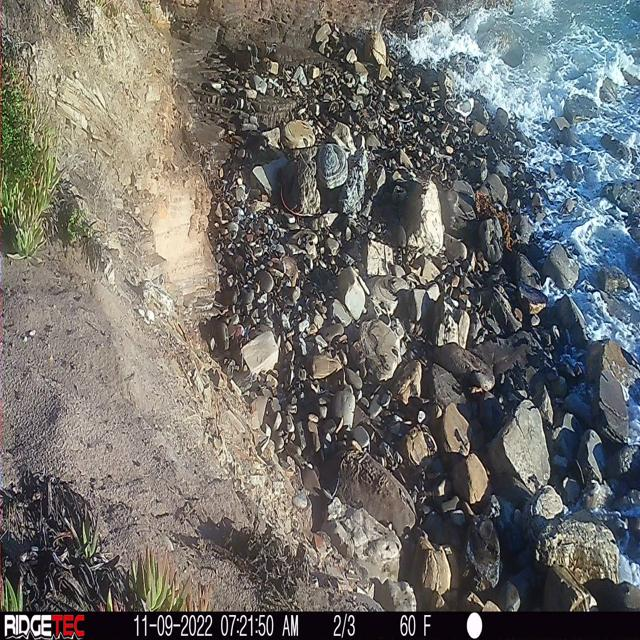bird: (456, 92, 478, 124)
